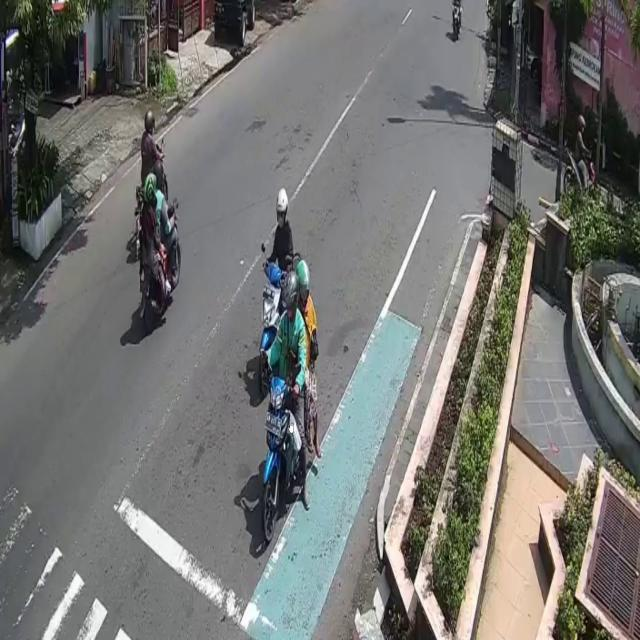motorbike: (258, 376, 313, 550), (260, 251, 302, 392), (141, 199, 182, 331), (134, 144, 170, 252), (563, 145, 598, 203)
